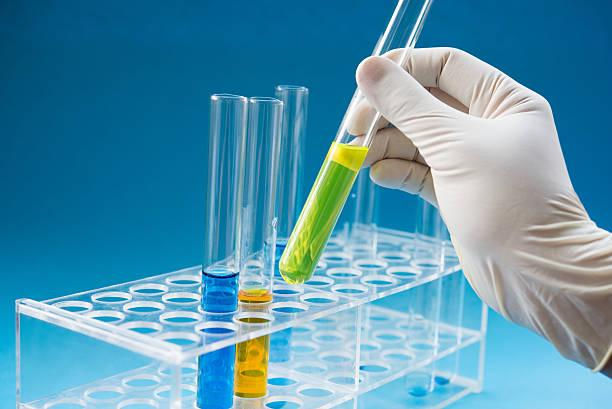Test tube: (200, 80, 278, 401)
